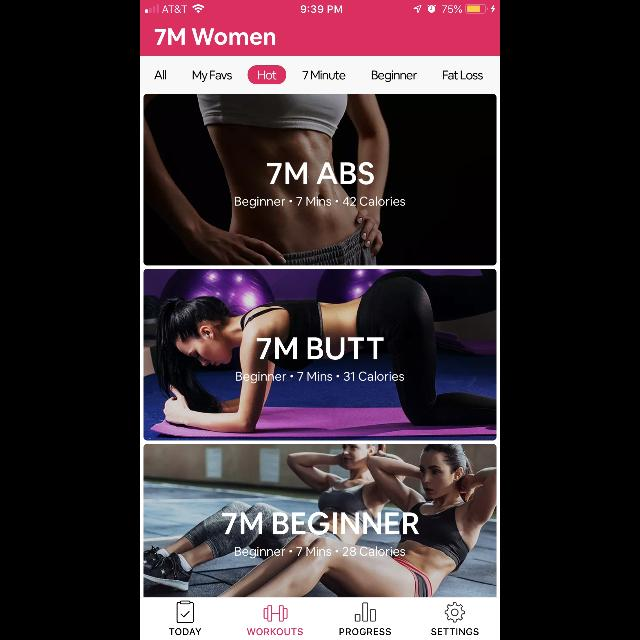icon: (354, 602, 376, 622), (176, 600, 194, 624), (445, 602, 465, 622)
image: (144, 94, 496, 266), (144, 270, 496, 440), (144, 444, 496, 598), (264, 604, 288, 622)
text: (222, 512, 420, 534), (256, 337, 384, 359), (268, 162, 374, 184), (154, 28, 276, 46), (235, 546, 405, 558), (235, 197, 405, 209), (236, 372, 404, 384), (372, 71, 416, 83), (192, 71, 232, 83), (247, 628, 303, 636), (302, 70, 346, 80), (339, 628, 391, 636), (443, 70, 483, 80), (432, 628, 478, 634), (169, 628, 201, 636), (154, 70, 166, 80)
textbutton: (248, 66, 286, 84)
uppertaskbar: (140, 0, 500, 14)
